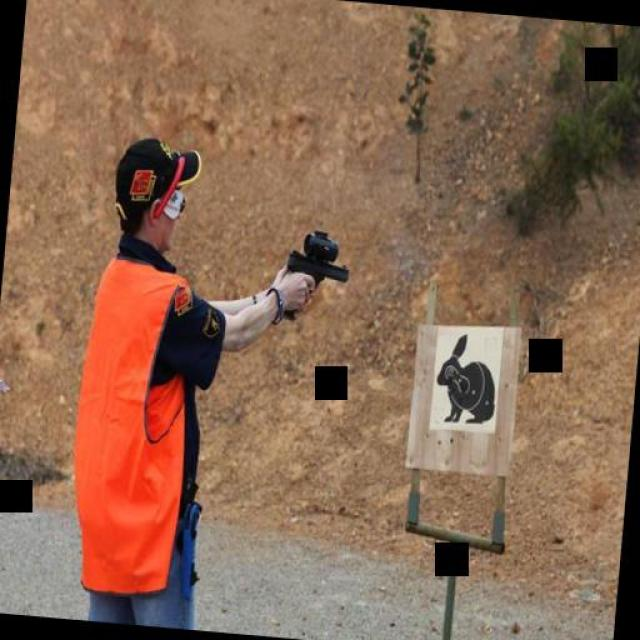gun: (274, 215, 356, 303)
